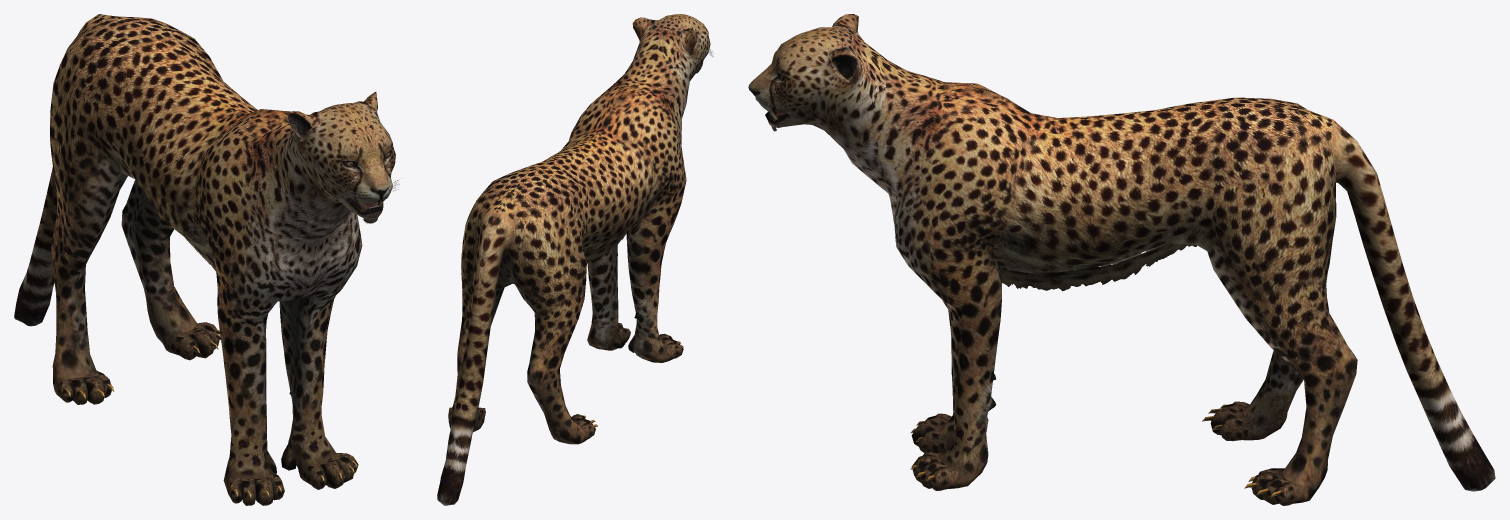
File: cheetah.glb
3 renders of one model, left to right at view 1: azimuth 30°, elevation 25°; view 2: azimuth 150°, elevation 25°; view 3: azimuth 270°, elevation 25°, orthographic. The views are drawn at different scales.
Visible parts, largest first — view 1: Object_2; view 2: Object_2; view 3: Object_2.
Part boxes in pixels (x1,y1,x2,y2): Object_2: [14, 14, 399, 505]; Object_2: [437, 14, 713, 505]; Object_2: [748, 14, 1495, 505].
Size of the model in its own units: 0.4498 by 1.07 by 1.58.
Materials: 1 (1 with a texture image).
